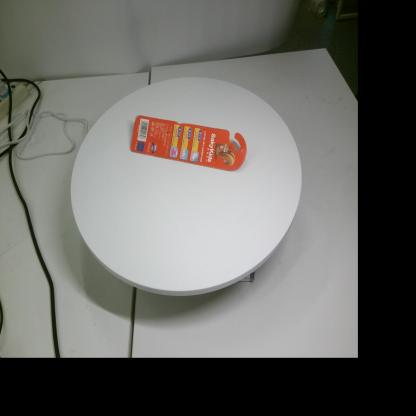Personal Hygiene: (130, 115, 247, 171)
